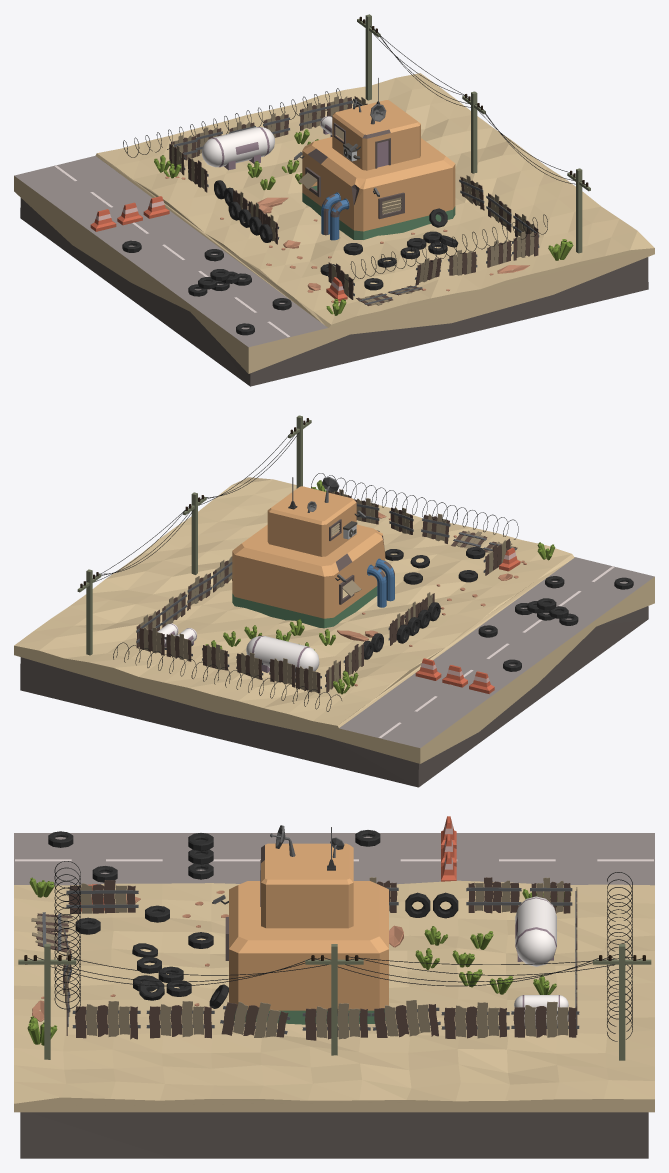
File: 01 Zombie_8.FBX
The picture shows the model from 3 angles, top to bottom: view 1: azimuth 30°, elevation 25°; view 2: azimuth 150°, elevation 25°; view 3: azimuth 270°, elevation 25°; orthographic projection. The views are drawn at different scales.
Parts seen in each view (by area): view 1: Base, Safe_House, Electric pole, Air_Tank_3, Fence, Wire_Fence; view 2: Base, Safe_House, Electric pole, Air_Tank_3, Wire_Fence, Fence; view 3: Base, Safe_House, Electric pole, Air_Tank_3, Fence, Wire_Fence, Air_Tank_1.
Boxes of the visible parts, x1=… form: Base: x1=14, y1=73, x2=654, y2=386; Safe_House: x1=298, y1=100, x2=455, y2=240; Electric pole: x1=357, y1=14, x2=590, y2=253; Air_Tank_3: x1=202, y1=127, x2=274, y2=170; Fence: x1=344, y1=214, x2=547, y2=281; Wire_Fence: x1=123, y1=88, x2=341, y2=157; Base: x1=14, y1=477, x2=654, y2=787; Safe_House: x1=232, y1=486, x2=394, y2=628; Electric pole: x1=77, y1=415, x2=311, y2=655; Air_Tank_3: x1=246, y1=636, x2=319, y2=675; Wire_Fence: x1=113, y1=642, x2=341, y2=711; Fence: x1=311, y1=473, x2=518, y2=539; Base: x1=14, y1=833, x2=654, y2=1158; Safe_House: x1=225, y1=843, x2=388, y2=1024; Electric pole: x1=18, y1=944, x2=651, y2=1060; Air_Tank_3: x1=515, y1=896, x2=556, y2=966; Fence: x1=54, y1=861, x2=80, y2=1012; Wire_Fence: x1=606, y1=872, x2=632, y2=1041; Air_Tank_1: x1=514, y1=995, x2=568, y2=1007.
Bounding box in the file's own units: 10002 × 3912 × 10000.
